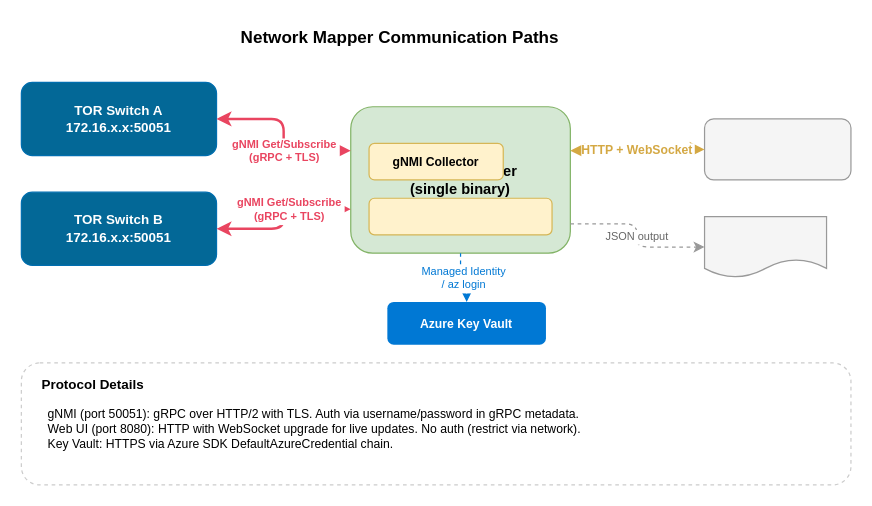
The diagram is 872 pixels wide and 506 high, and some of its shapes have lost their labels. Each missing label, with the centre of its shape:
Browser: the point at 777,149
HTTP Server :8080: the point at 460,216
topology.json: the point at 765,246
